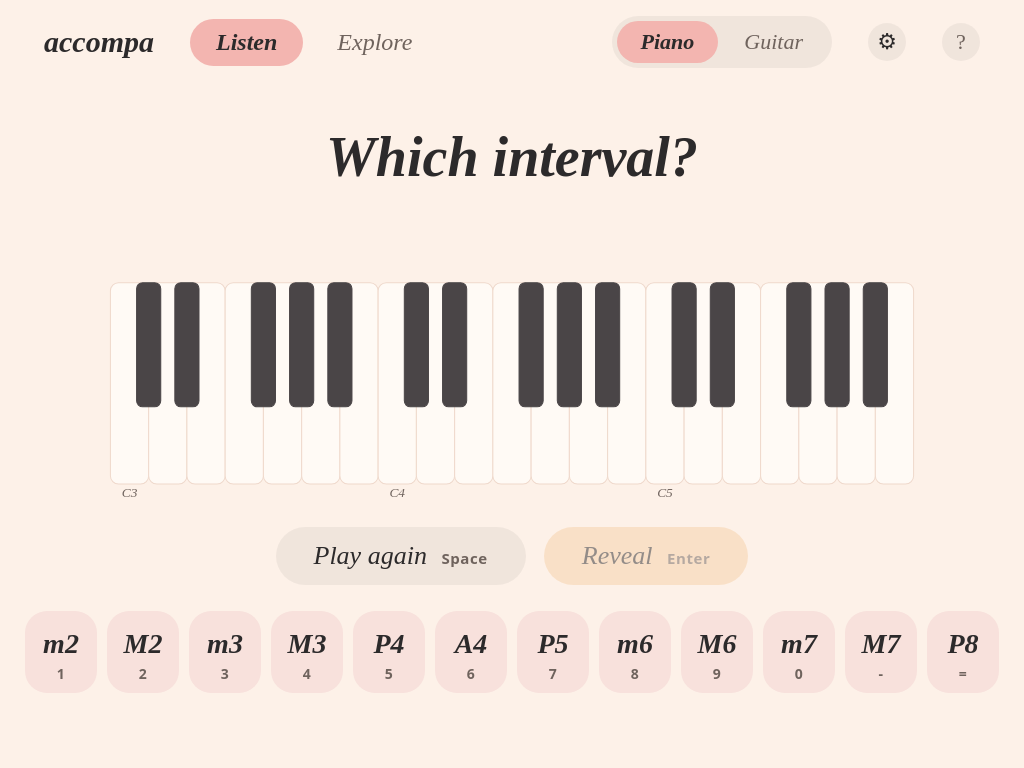
chord reveal in the app › lights the exact keys with roles, names the chord and shows the legend
Click the button named "Setup": {"x": 887, "y": 42} [868,23,906,61]
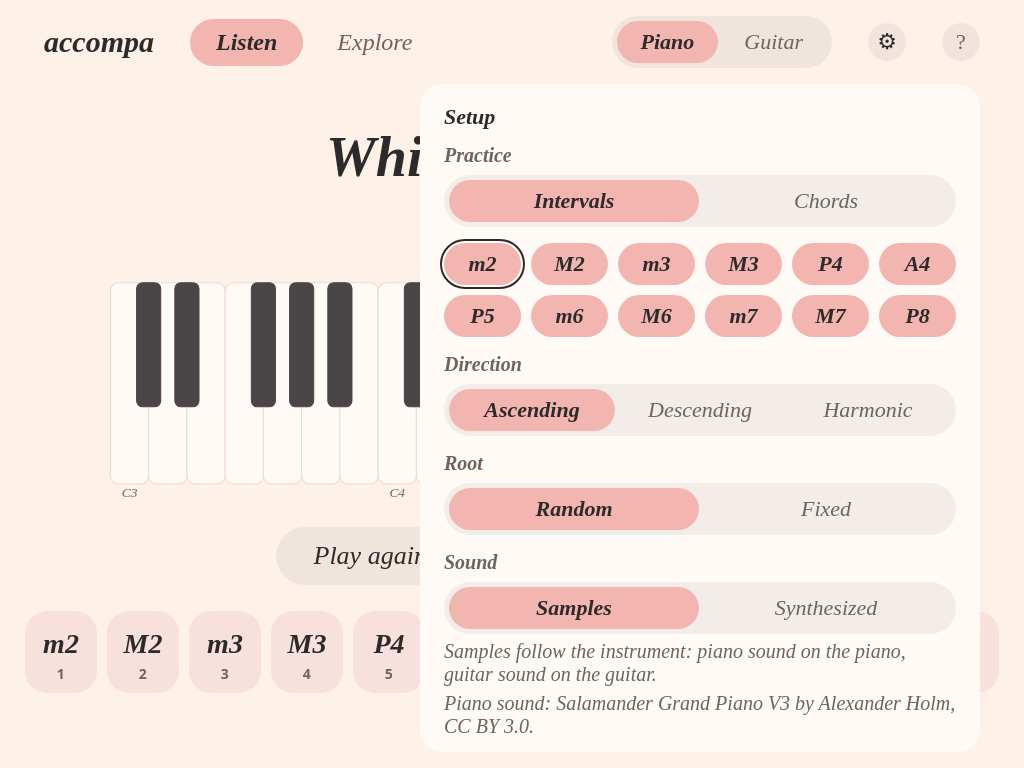
Click the radio button labelled "Chords": {"x": 826, "y": 200} [794,188,858,213]
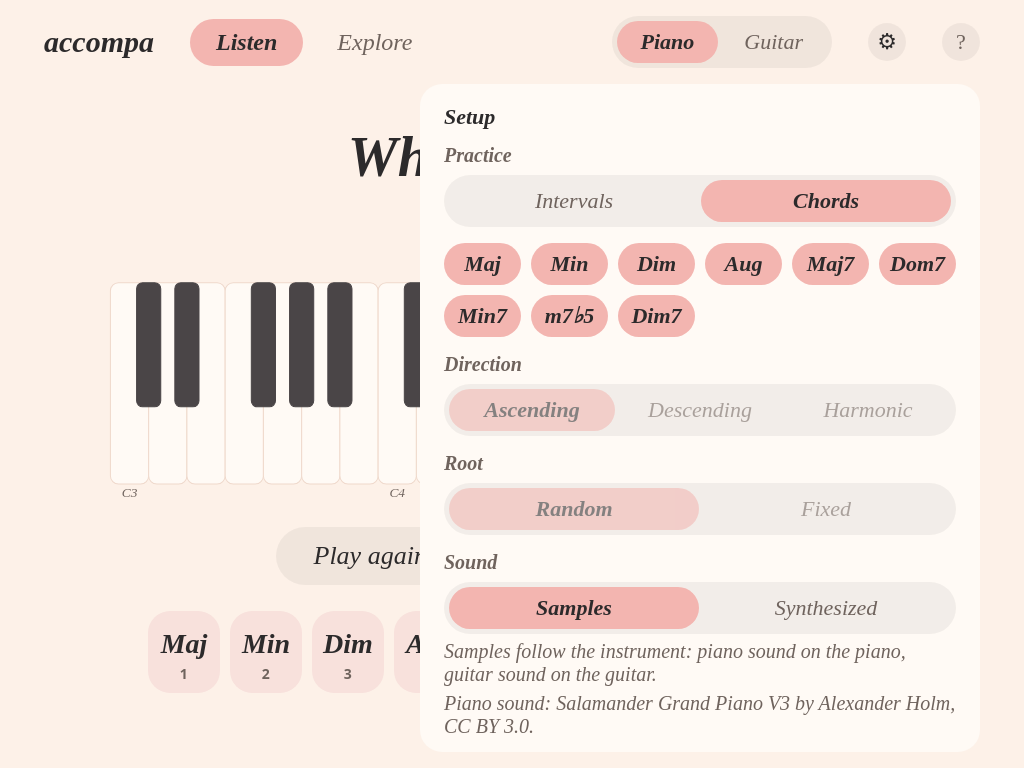
Click the button named "Setup": {"x": 887, "y": 42} [868,23,906,61]
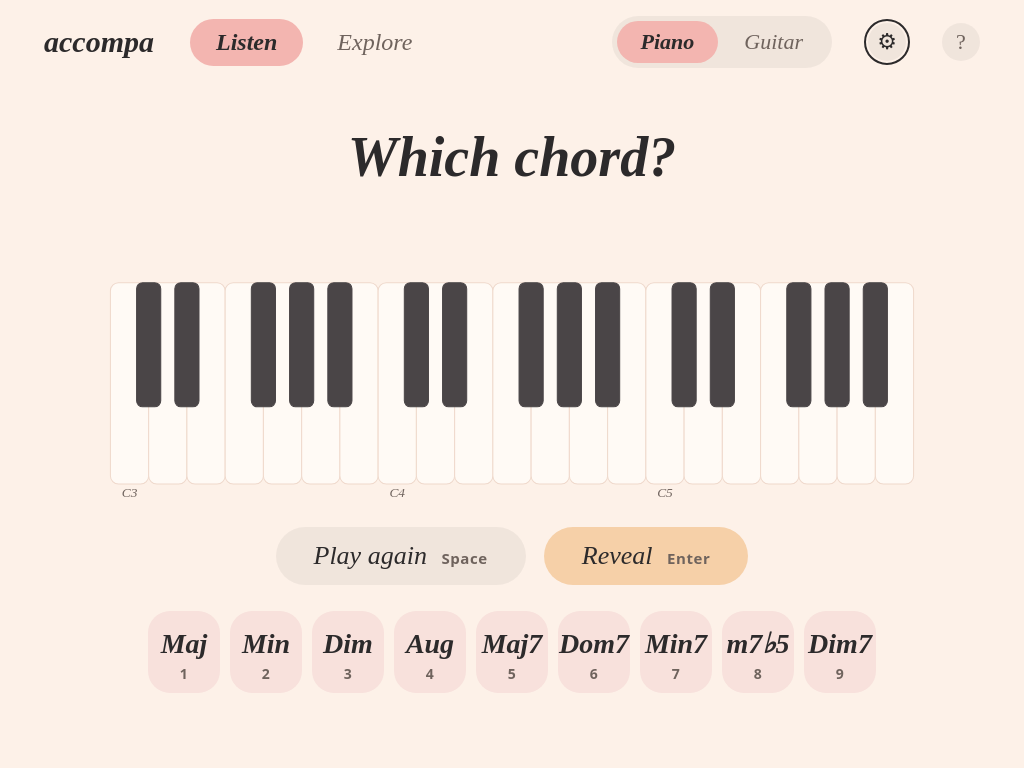
Press Enter
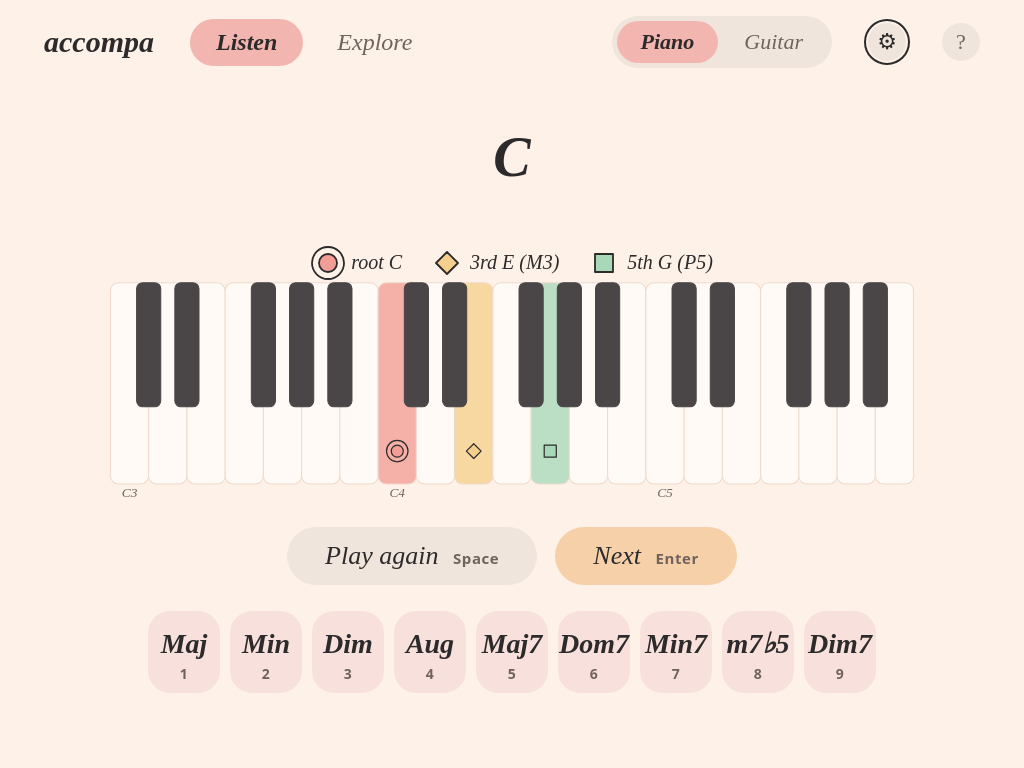
Now the element with class "readout-question" reads "C", box [493,126,531,188]
Now the button "Next Enter" is shown, box [555,527,737,585]
